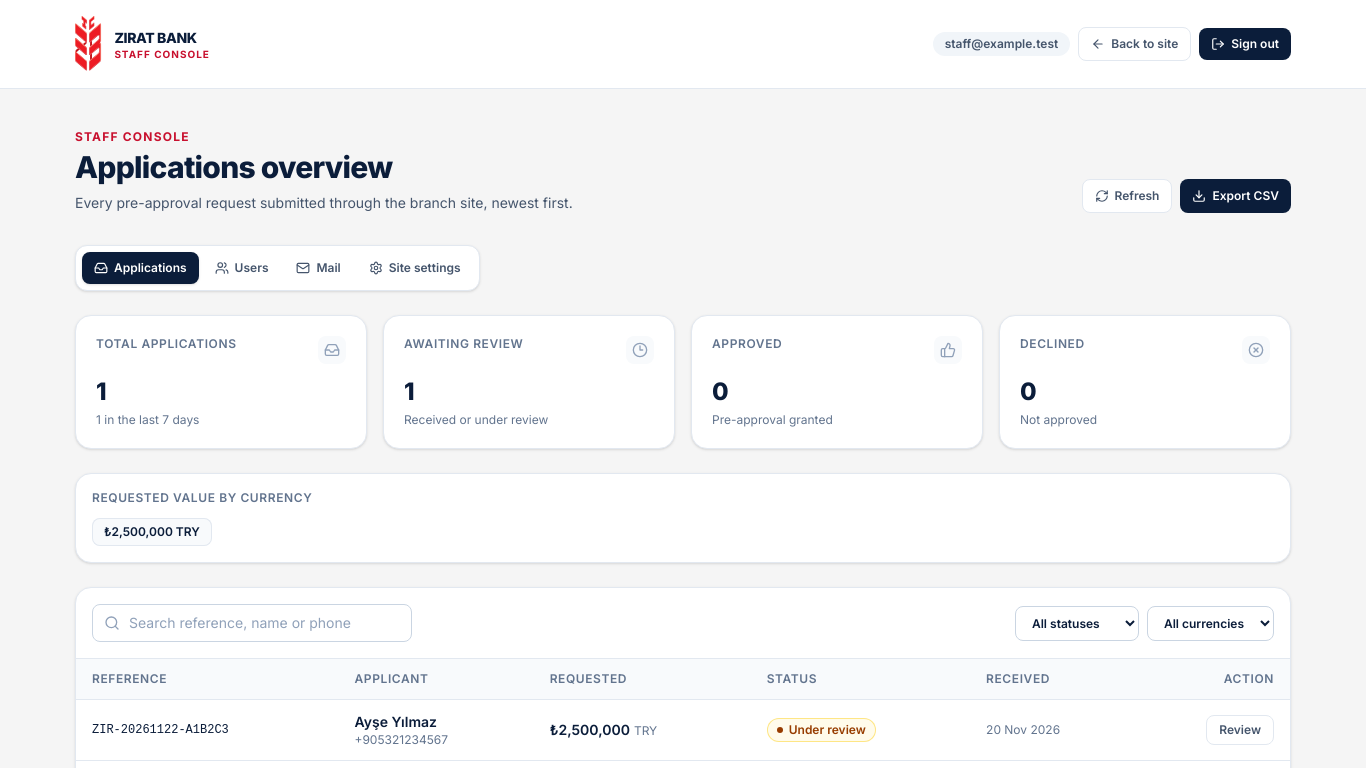
Test: staff console › lists applications and records a decision
Later steps or results of the test are not shown.
expect the heading "Applications overview" is shown: met, box [75,149,392,185]
expect the text "Awaiting review" is shown: met, box [404,336,524,352]
What coordinates should you click on to do the following:
click the button "Review"
I would click on:
 (1240, 730)
Its box is [1206,715,1274,745].
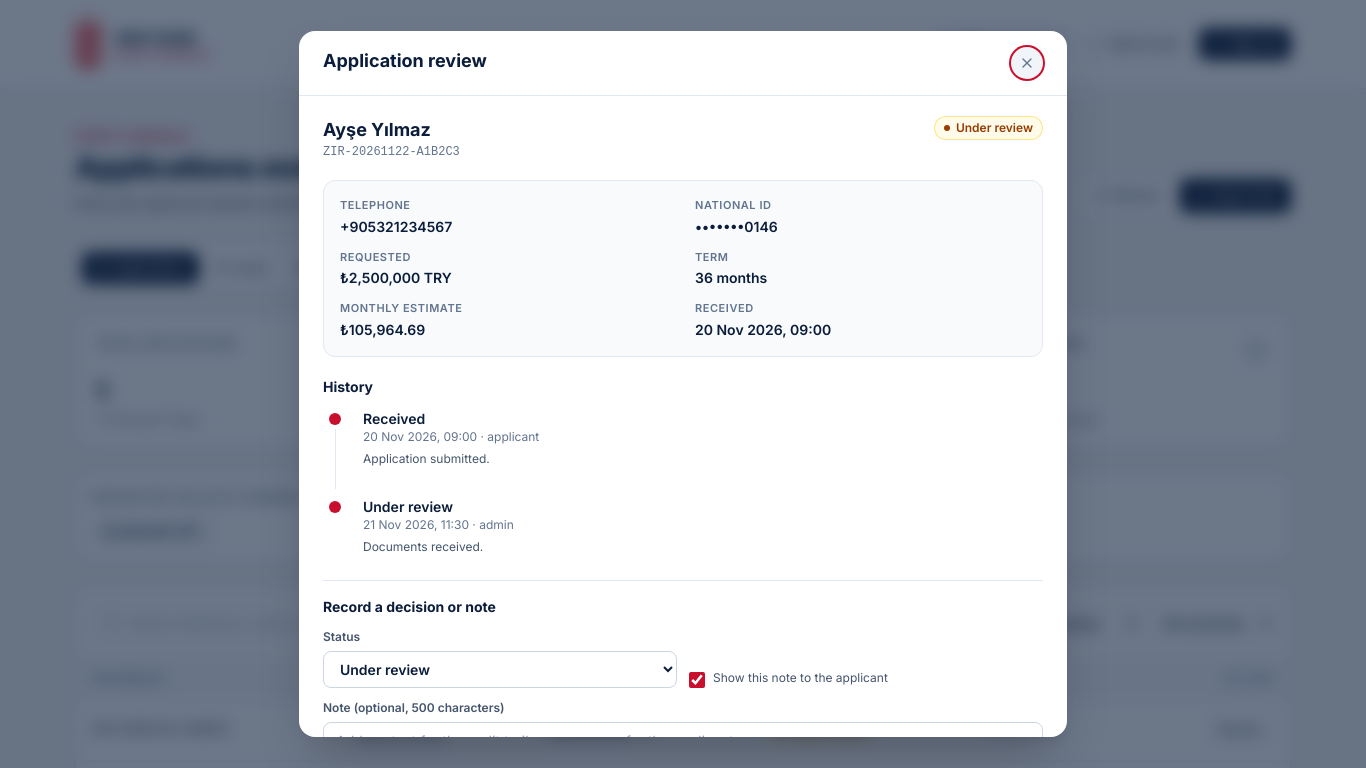
expect the heading "History" is shown: met, box [323,378,373,395]
